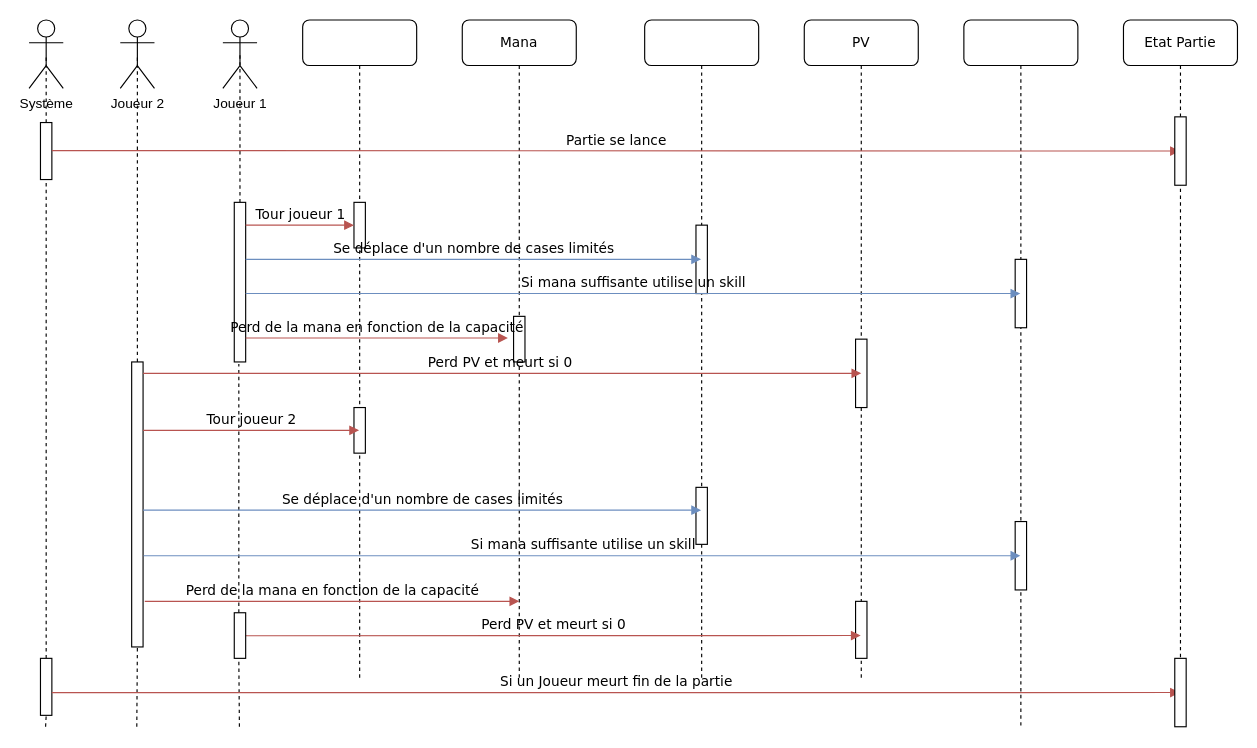
Some shapes in this 1257 by 748 pixel diagram are drawn without their labels. The shapes that lost their labels are listed below. From the top down, each one's box as (x1, y1, x2, y2) in pixels, then its label:
(302, 19, 417, 681): Tours
(644, 19, 759, 681): Deplacement
(963, 19, 1078, 727): Skills
